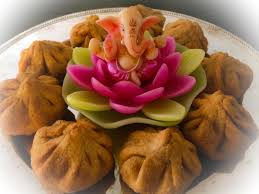modak: (32, 117, 118, 191), (118, 127, 201, 194), (185, 89, 259, 159), (2, 75, 65, 131), (202, 50, 258, 98), (23, 35, 78, 81)
